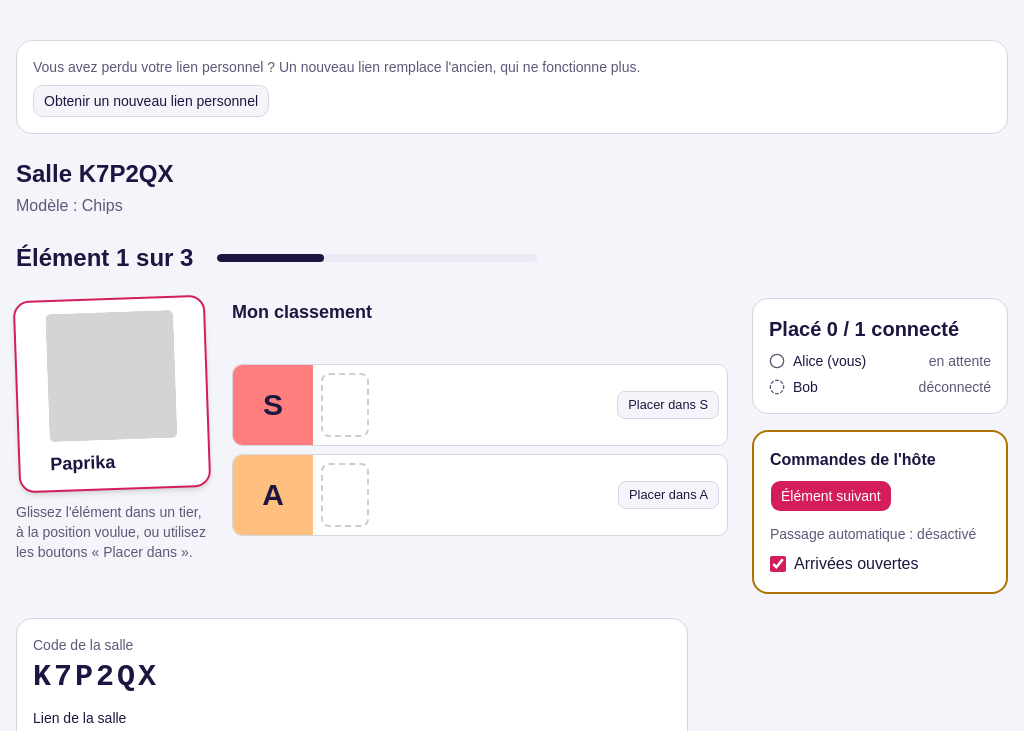
it: GameScreen › says why the item could not be placed
Click the button with aria-label "Placer dans S : l'élément en cours, à la fin" at (668, 405), box [617,391,719,419]
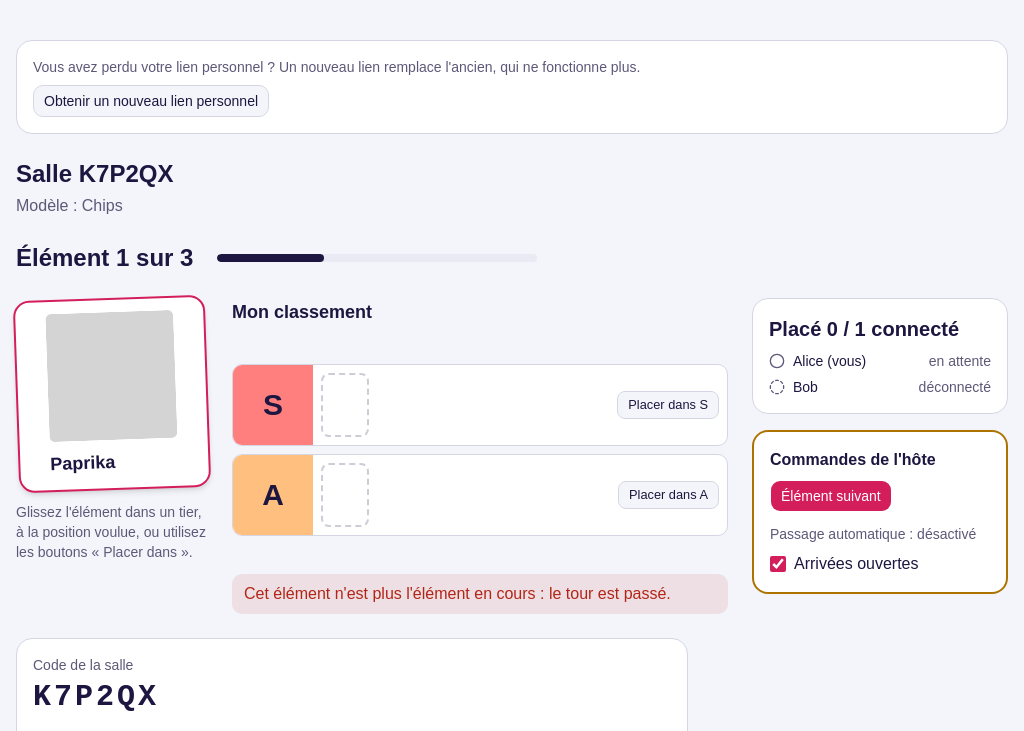
expect the message reads "Cet élément n'est plus l'élément en cours : le tour est passé.": met, box [244,585,671,602]
